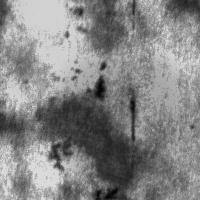patches: (52, 48, 194, 190), (0, 0, 111, 102), (34, 96, 137, 186), (89, 1, 126, 51), (1, 97, 28, 152), (84, 62, 110, 99), (161, 1, 200, 21), (127, 93, 137, 144), (92, 185, 121, 200)
